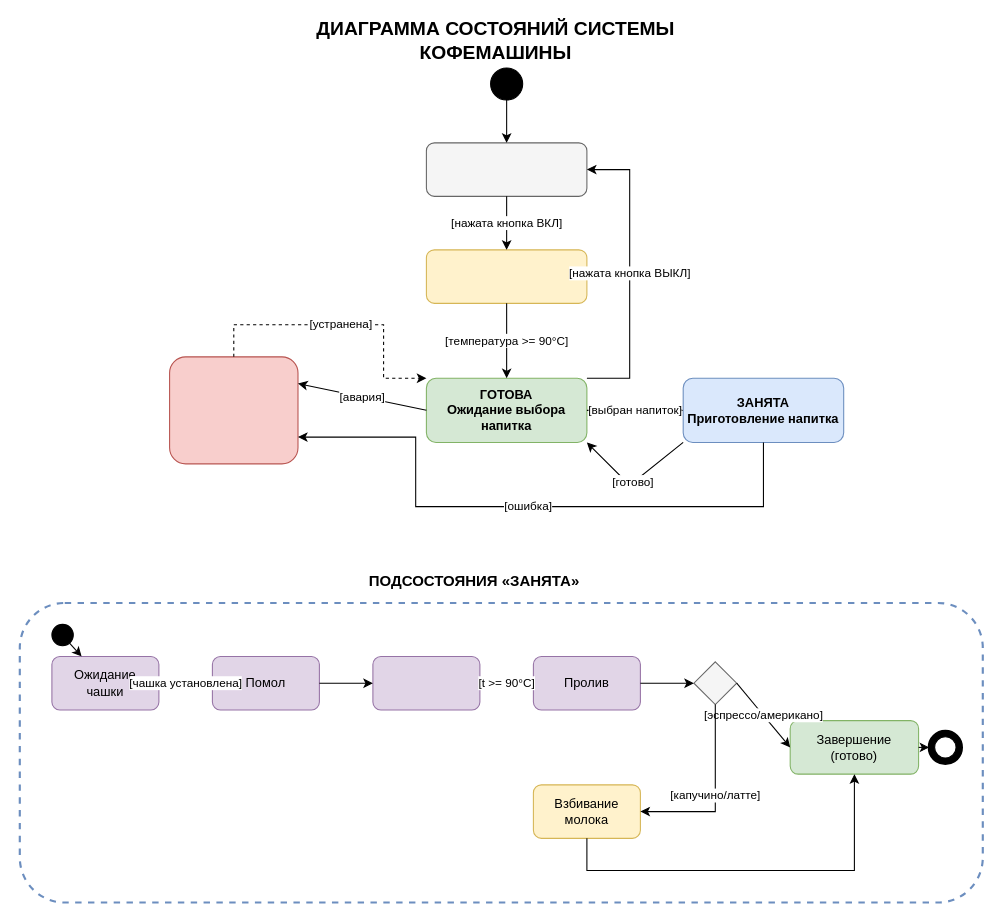
The diagram is 1002 pixels wide and 922 high, and some of its shapes have lost their labels. Here are the shapes that lost their labels. From the top down, the centre of each, then its label:
the point at 506,169: ВЫКЛЮЧЕНА
the point at 506,276: ПРОГРЕВ (нагрев воды)
the point at 233,410: ОШИБКА - нет воды - нет зёрен - перегрев - таймаут
the point at 426,682: Нагрев (если нужен)
